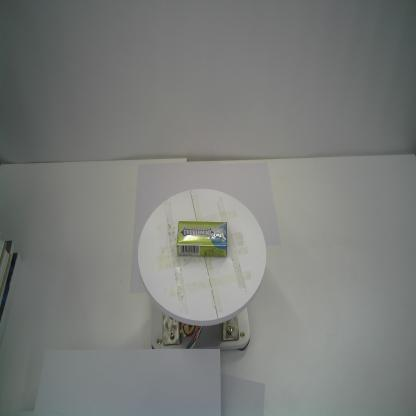Gum: (176, 220, 228, 258)
